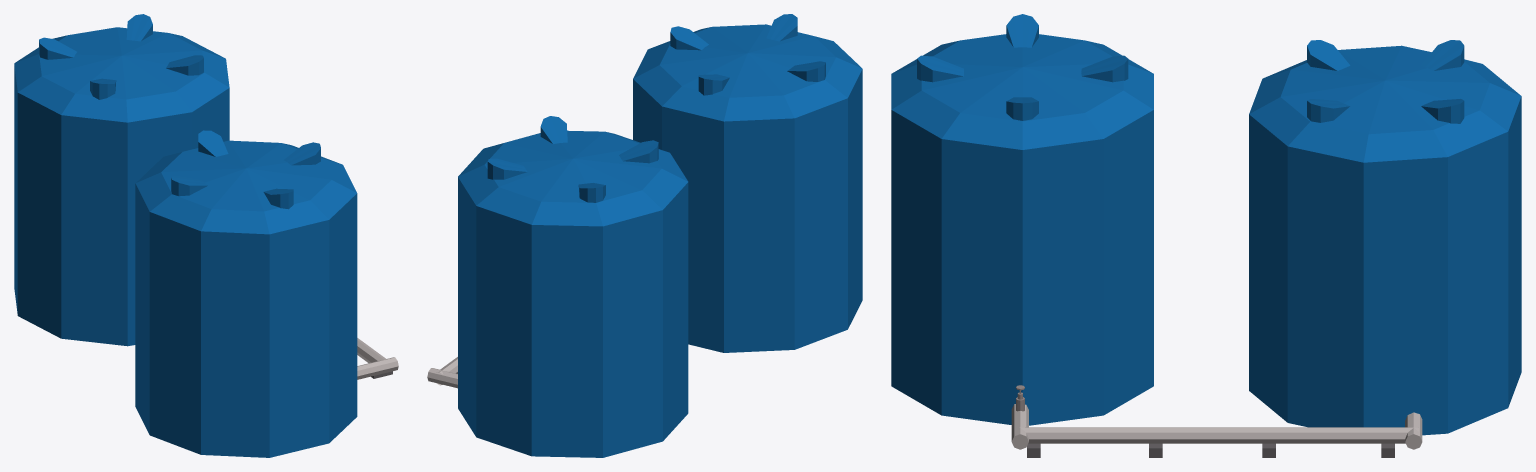
File: WaterTank.fbx
The picture shows the model from 3 angles, left to right: view 1: azimuth 30°, elevation 25°; view 2: azimuth 150°, elevation 25°; view 3: azimuth 270°, elevation 25°; orthographic projection. The views are drawn at different scales.
Visible parts, largest first — view 1: water_tank, Water_Tank02, pipe; view 2: Water_Tank02, water_tank, pipe; view 3: Water_Tank02, water_tank, pipe.
Part boxes in pixels (x1,y1,x2,y2): water_tank: [135, 130, 357, 457]; Water_Tank02: [14, 14, 229, 346]; pipe: [357, 338, 398, 379]; Water_Tank02: [458, 116, 688, 457]; water_tank: [633, 14, 862, 352]; pipe: [427, 357, 457, 388]; Water_Tank02: [1249, 40, 1521, 435]; water_tank: [891, 14, 1153, 425]; pipe: [1011, 385, 1422, 457].
Size of the model in its own units: 47.96 by 86.34 by 46.8.
